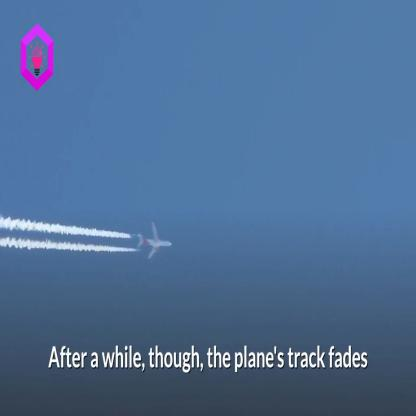plane: (134, 219, 177, 259)
